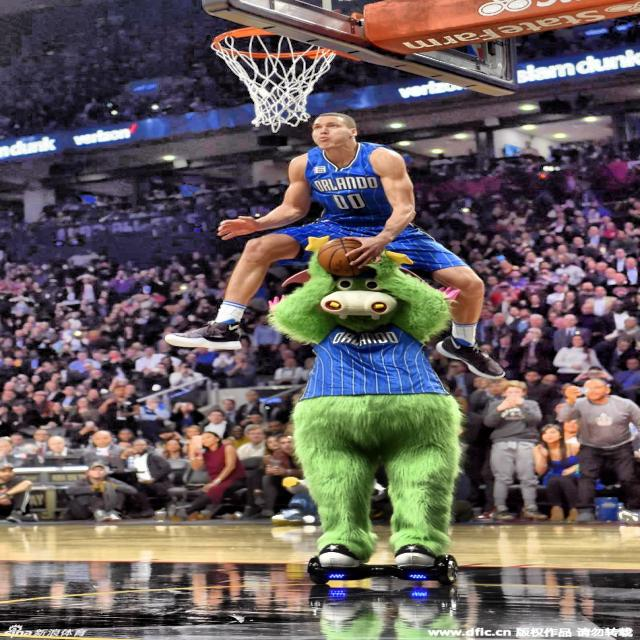rim: (207, 28, 337, 130)
